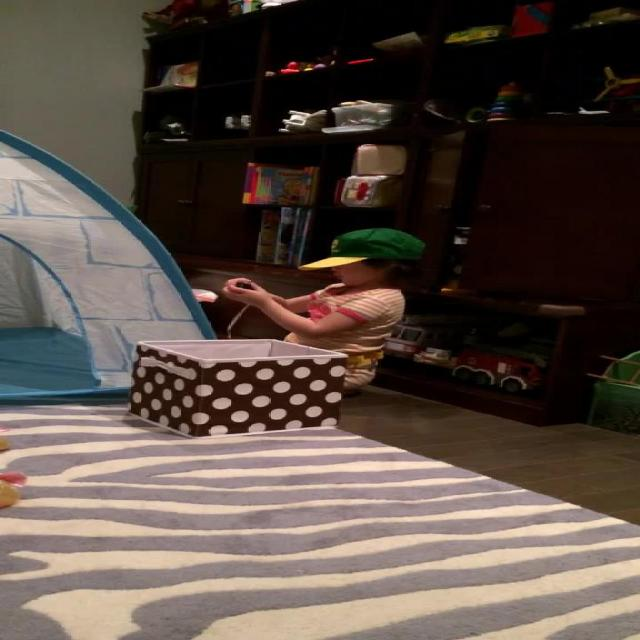Box: (133, 341, 367, 427)
